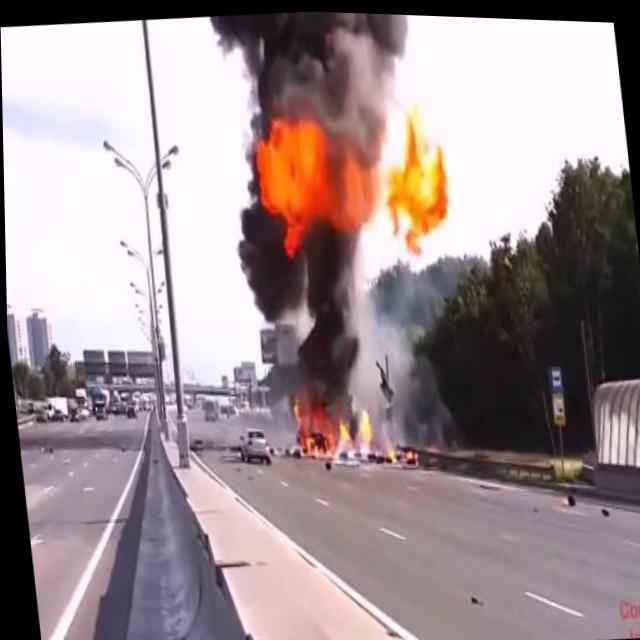fire: (240, 79, 460, 272), (285, 388, 375, 469), (381, 430, 419, 468)
